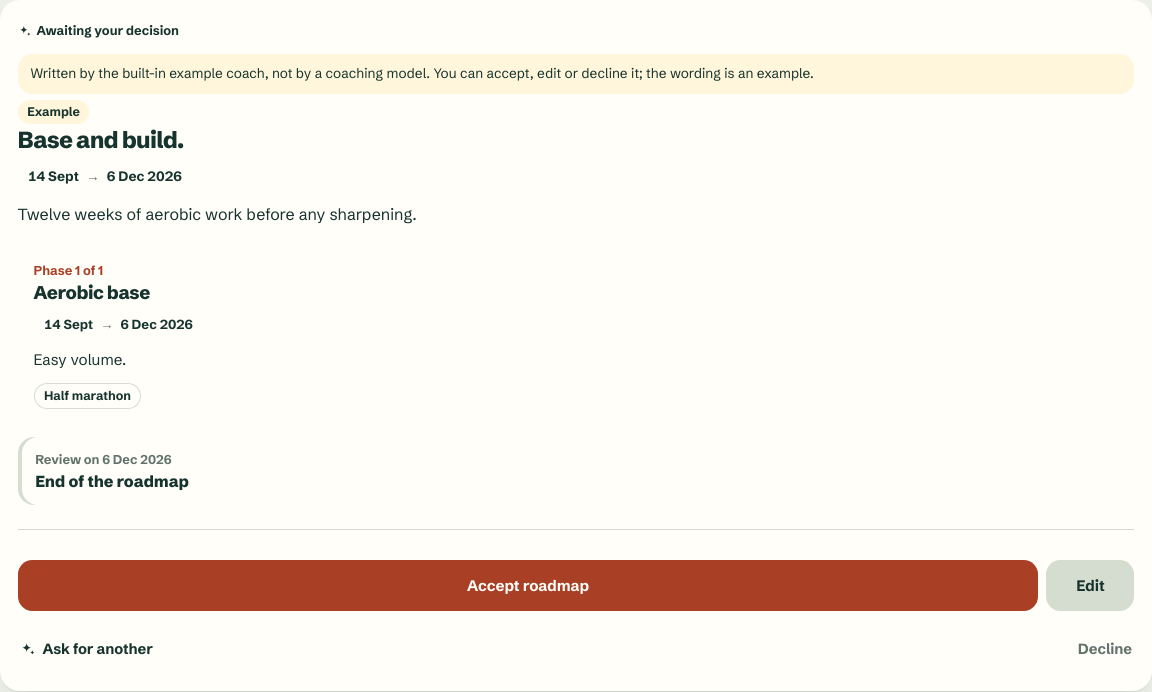
Test case: RoadmapDecisionDock › puts open memory suggestions in front of the owner once before Accept (owner, 19 Oct 2026)
What coordinates should you click on to do the following:
click the button "Accept roadmap"
I would click on:
 (528, 586)
Its box is [18, 560, 1038, 611].
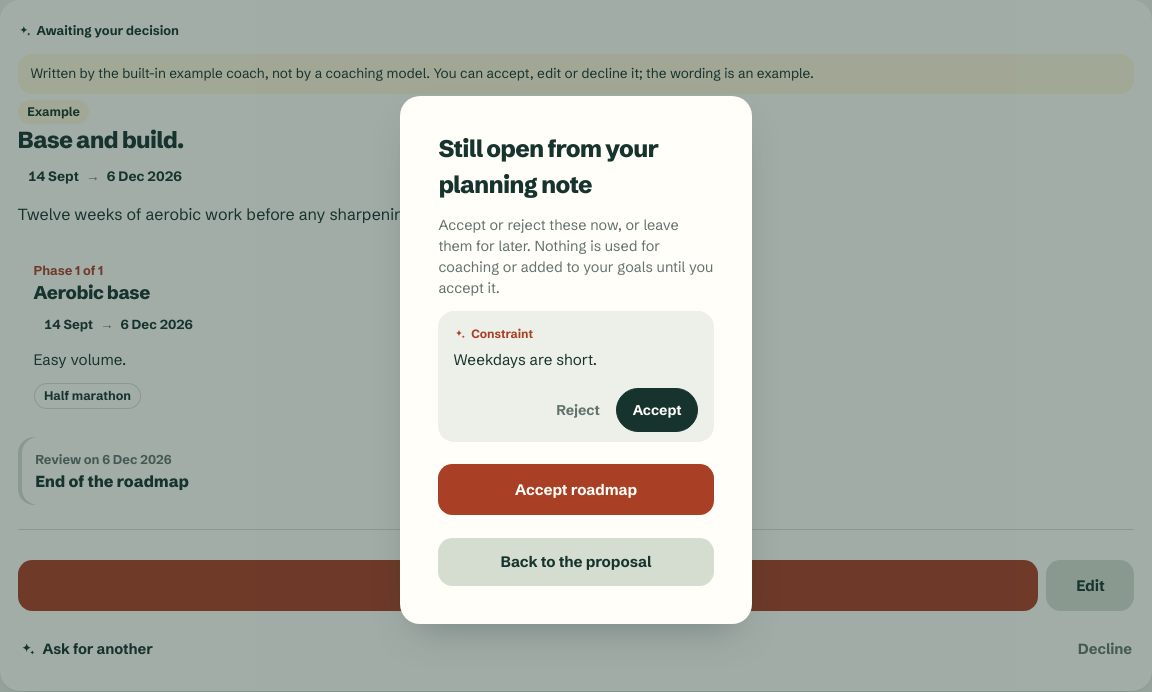
Expected: the text "Your training history changed. Review the proposal again." is not shown
Result: the heading "Still open from your planning note" is shown at [438, 134, 658, 199]
Result: the text "Weekdays are short." is shown at [454, 350, 597, 369]
What coordinates should you click on to do the following:
click the button "Accept roadmap"
I would click on:
 (576, 490)
Its box is [438, 464, 714, 515].
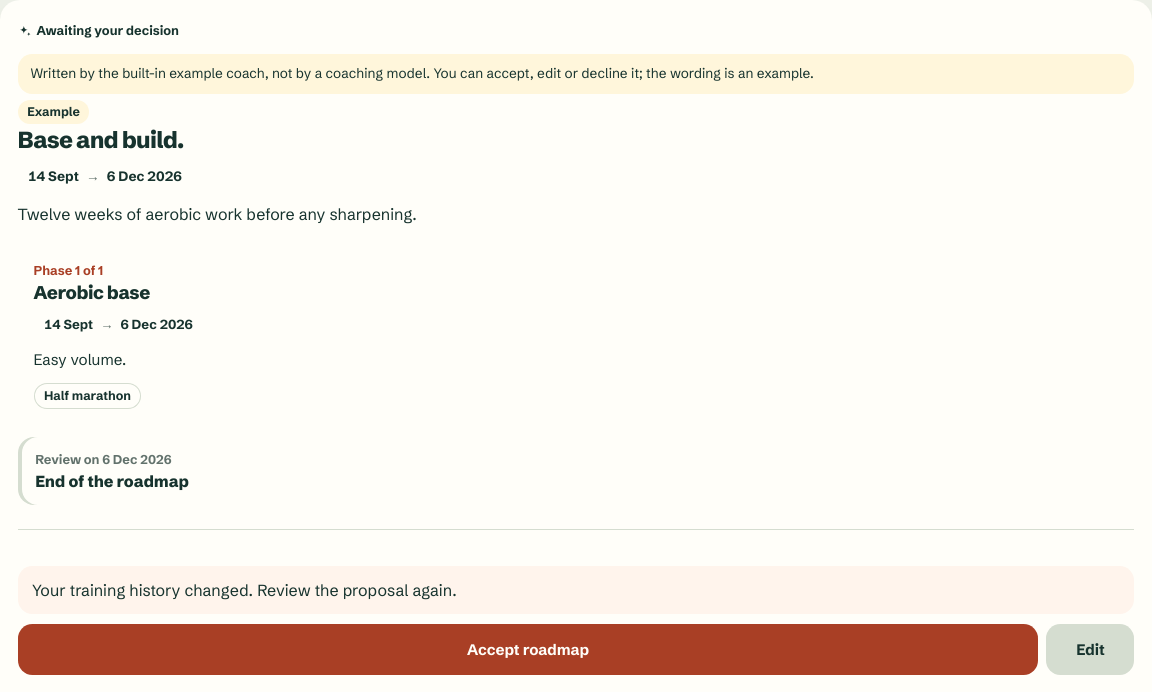
Result: the text "Your training history changed. Review the proposal again." is shown at [18, 566, 1134, 614]
Result: the heading "Still open from your planning note" is gone
